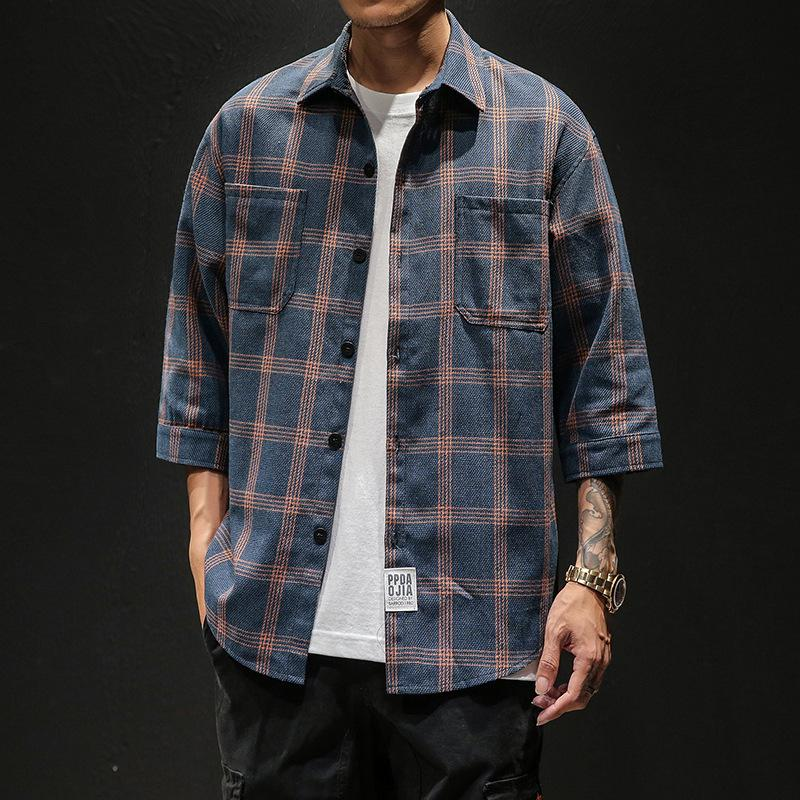squared: (134, 15, 679, 694)
